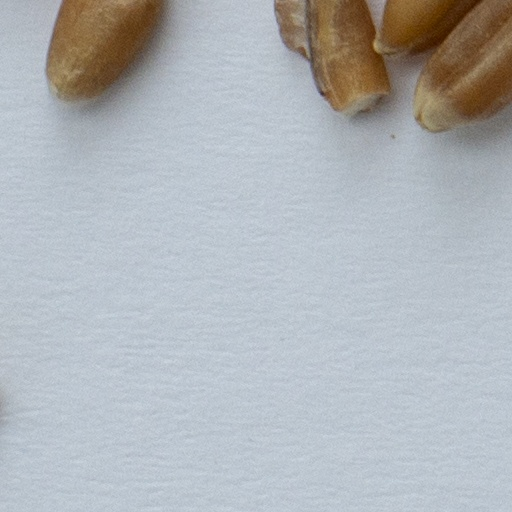Wheat-grain-poly: (45, 0, 163, 101)
